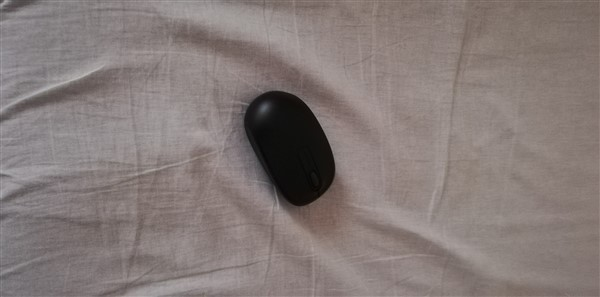mouse: (239, 87, 343, 211)
